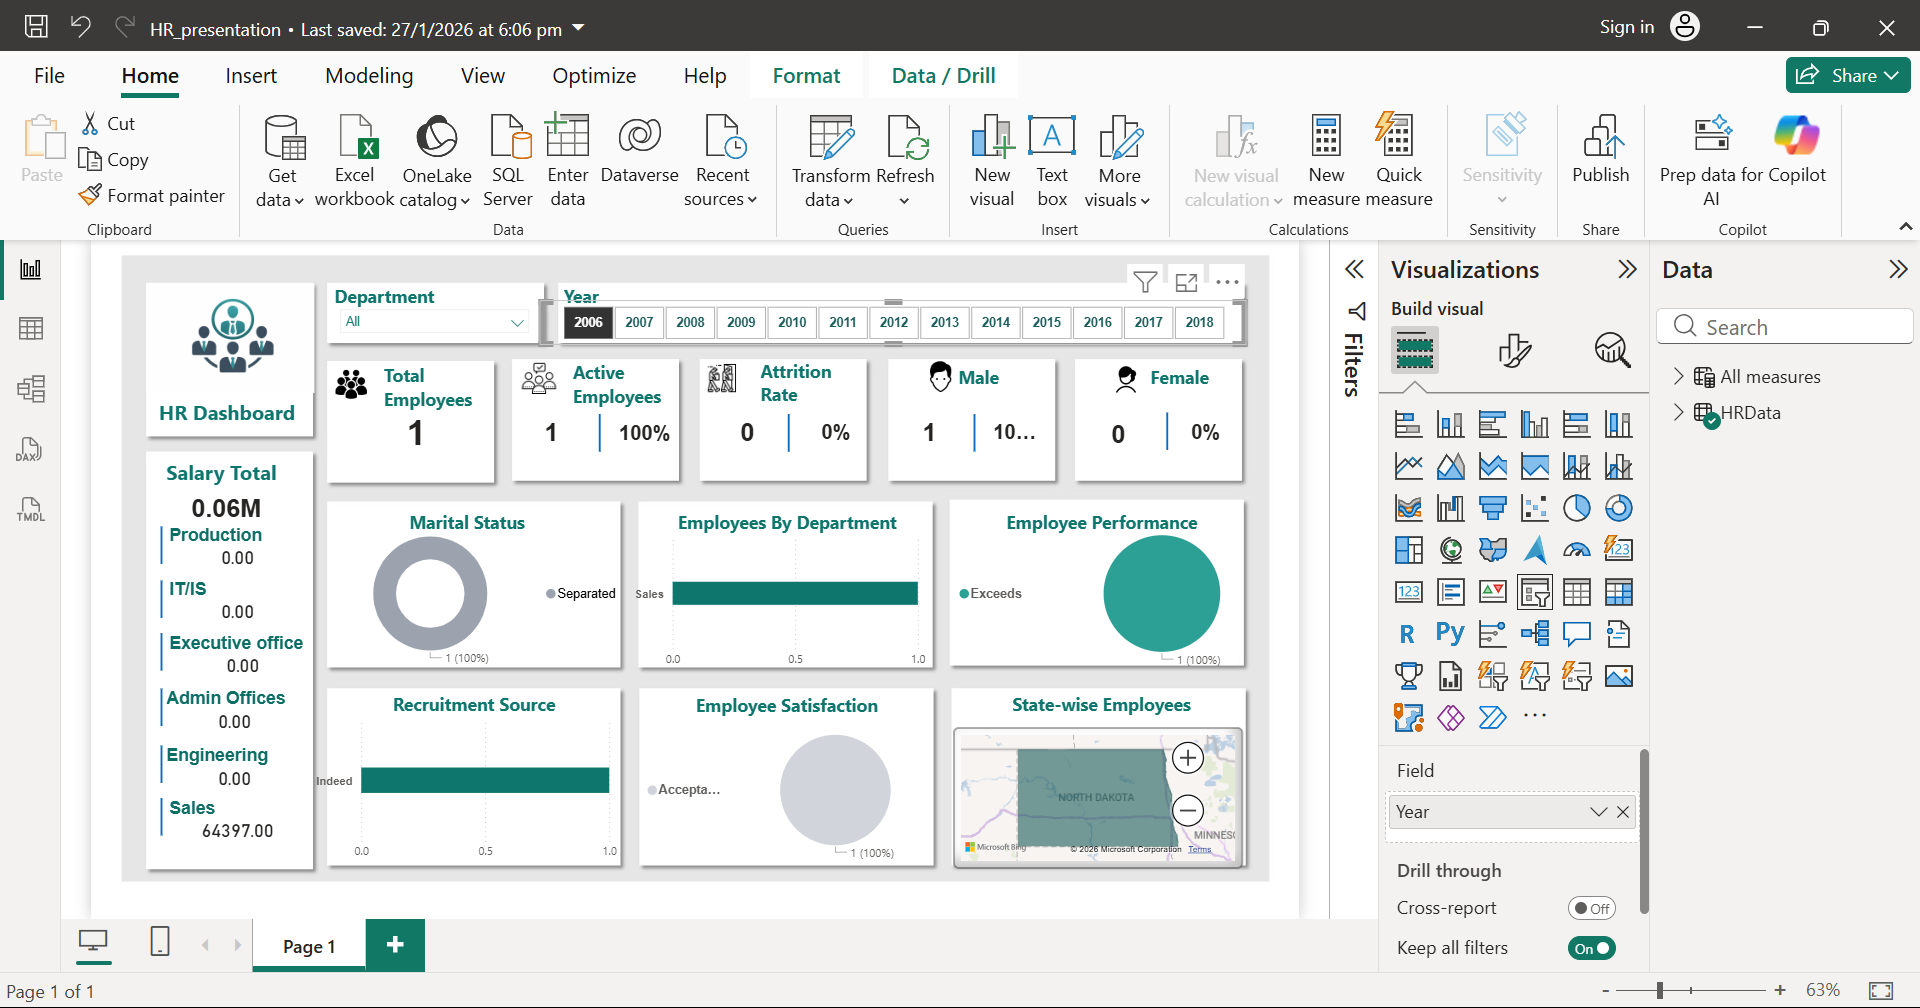

What the dashboard file says about the page in this screenshot:
{"tool":"powerbi","page":{"name":"Page 1","canvas":[1280,720],"ordinal":0},"visuals":[{"type":"textbox","box":[66.8,162.2,157.5,42.9],"z":0},{"type":"textbox","box":[704.6,120.9,112.9,62],"z":1000},{"type":"textbox","box":[505.8,122.5,112.9,77.9],"z":2000},{"type":"textbox","box":[305.4,125.7,117.7,76.3],"z":3000},{"type":"textbox","box":[253.2,41.6,156.9,43.5],"z":4000},{"type":"textbox","box":[74.8,225.9,149.5,55.7],"z":5000},{"type":"textbox","box":[496.3,41.4,157.5,44.5],"z":6000},{"type":"textbox","box":[914.3,127.1,64.3,42.9],"z":7000},{"type":"textbox","box":[1117.5,127.5,83.8,42.5],"z":8000},{"type":"textbox","box":[314.9,474,189.3,42.9],"z":9000},{"type":"textbox","box":[965.5,281.5,222.7,42.9],"z":10000},{"type":"textbox","box":[617.2,281.5,249.7,44.5],"z":11000},{"type":"textbox","box":[332.4,281.5,155.9,42.9],"z":12000},{"type":"textbox","box":[971.9,474,208.4,42.9],"z":13000},{"type":"textbox","box":[636.2,475.6,213.1,42.9],"z":14000},{"type":"image","box":[63.6,46.1,173.4,116.1],"z":15000},{"type":"image","box":[259.3,133.6,33.4,38.2],"z":16000},{"type":"image","box":[454.9,127.2,41.4,39.8],"z":17000},{"type":"image","box":[641,130.4,55.7,31.8],"z":18000},{"type":"image","box":[1076.2,130,41.2,33.8],"z":19000},{"type":"image","box":[878.8,127.5,46.2,35],"z":20000},{"type":"slicer","fields":{"Values":["HRData.Department"]},"box":[253.8,63.8,220,48.8],"z":21000},{"type":"card","fields":{"Values":["All measures.Head count"]},"box":[292.7,175,103.4,55.7],"z":22000},{"type":"card","fields":{"Values":["All measures.Active"]},"box":[448.8,170,78.8,67.5],"z":23000},{"type":"card","fields":{"Values":["All measures.Active %"]},"box":[535,171.2,105,67.5],"z":24000},{"type":"shape","box":[516.2,185,45,40],"z":25000},{"type":"card","fields":{"Values":["All measures.Terminated"]},"box":[652.5,172.5,87.5,63.8],"z":26000},{"type":"card","fields":{"Values":["All measures.Terminated %"]},"box":[750.8,173.4,77.9,60.4],"z":27000},{"type":"shape","box":[717.5,183.8,45,40],"z":28000},{"type":"card","fields":{"Values":["All measures.Male"]},"box":[850,175,78.8,56.2],"z":29000},{"type":"card","fields":{"Values":["All measures.Female"]},"box":[1050,173.8,78.8,63.8],"z":30000},{"type":"card","fields":{"Values":["All measures.Male %"]},"box":[949.6,170.2,58.9,68.4],"z":31000},{"type":"card","fields":{"Values":["All measures.Female %"]},"box":[1142.1,168.6,79.5,70],"z":32000},{"type":"shape","box":[1118.2,182.9,46.1,39.8],"z":33000},{"type":"shape","box":[914.6,184.5,44.5,39.8],"z":34000},{"type":"donutChart","fields":{"Category":["HRData.MaritalStatus"],"Y":["All measures.Head count"]},"box":[231.7,288.3,338.3,173.3],"z":35000},{"type":"barChart","fields":{"Category":["HRData.Department"],"Y":["All measures.Head count"]},"box":[570,303.3,320,158.3],"z":36000},{"type":"pieChart","fields":{"Category":["HRData.PerformanceScore"],"Y":["All measures.Head count"]},"box":[915,288.3,365,173.3],"z":37000},{"type":"barChart","fields":{"Category":["HRData.RecruitmentSource"],"Y":["All measures.Head count"]},"box":[231.7,496.7,330,170],"z":38000},{"type":"pieChart","fields":{"Category":["HRData.emp satisfaction"],"Y":["All measures.Head count"]},"box":[583.3,496.7,318.3,173.3],"z":39000},{"type":"filledMap","fields":{"Category":["HRData.State"]},"box":[914.6,516.9,307,149.5],"z":40000},{"type":"card","fields":{"Values":["All measures.Total Salary"]},"box":[87.5,264,111.3,39.8],"z":41000},{"type":"slicer","fields":{"Values":["HRData.Year"]},"box":[475,63.3,750,48.3],"z":42000},{"type":"card","title":"Production","fields":{"Values":["All measures.Salary_production"]},"box":[77.9,302.2,154.3,46.1],"z":43000},{"type":"card","title":"IT/IS","fields":{"Values":["All measures.Salary_IT_IS"]},"box":[77.9,359.5,154.3,46.1],"z":44000},{"type":"card","title":"Executive office","fields":{"Values":["All measures.Salary_executive"]},"box":[77.9,416.7,165.4,46.1],"z":45000},{"type":"card","title":"Admin Offices","fields":{"Values":["All measures.Salary_Admin_off"]},"box":[74.8,475.6,154.3,46.1],"z":46000},{"type":"card","title":"Engineering","fields":{"Values":["All measures.Salary_Engineering"]},"box":[74.8,536,154.3,46.1],"z":47000},{"type":"card","title":"Sales","fields":{"Values":["All measures.Salary_sales"]},"box":[77.9,591.7,154.3,46.1],"z":48000},{"type":"shape","box":[52.5,303.8,44.5,39.8],"z":49000},{"type":"shape","box":[52.5,475.6,44.5,39.8],"z":50000},{"type":"shape","box":[52.5,361.1,44.5,39.8],"z":51000},{"type":"shape","box":[52.5,416.7,44.5,39.8],"z":52000},{"type":"shape","box":[52.5,536,44.5,39.8],"z":53000},{"type":"shape","box":[52.5,591.7,44.5,39.8],"z":54000}]}

Visuals, with their boxes on the page's 1280x720 design canvas (x1, y1, x2, y2). These are canvas units, not pixel positions in the 1920x1008 screenshot, which may show the page scaled, cropped or inside an application window:
textbox: (left=67, top=162, right=224, bottom=205)
textbox: (left=705, top=121, right=818, bottom=183)
textbox: (left=506, top=122, right=619, bottom=200)
textbox: (left=305, top=126, right=423, bottom=202)
textbox: (left=253, top=42, right=410, bottom=85)
textbox: (left=75, top=226, right=224, bottom=282)
textbox: (left=496, top=41, right=654, bottom=86)
textbox: (left=914, top=127, right=979, bottom=170)
textbox: (left=1118, top=128, right=1201, bottom=170)
textbox: (left=315, top=474, right=504, bottom=517)
textbox: (left=966, top=282, right=1188, bottom=324)
textbox: (left=617, top=282, right=867, bottom=326)
textbox: (left=332, top=282, right=488, bottom=324)
textbox: (left=972, top=474, right=1180, bottom=517)
textbox: (left=636, top=476, right=849, bottom=518)
image: (left=64, top=46, right=237, bottom=162)
image: (left=259, top=134, right=293, bottom=172)
image: (left=455, top=127, right=496, bottom=167)
image: (left=641, top=130, right=697, bottom=162)
image: (left=1076, top=130, right=1117, bottom=164)
image: (left=879, top=128, right=925, bottom=162)
slicer - HRData.Department: (left=254, top=64, right=474, bottom=113)
card - All measures.Head count: (left=293, top=175, right=396, bottom=231)
card - All measures.Active: (left=449, top=170, right=528, bottom=238)
card - All measures.Active %: (left=535, top=171, right=640, bottom=239)
shape: (left=516, top=185, right=561, bottom=225)
card - All measures.Terminated: (left=652, top=172, right=740, bottom=236)
card - All measures.Terminated %: (left=751, top=173, right=829, bottom=234)
shape: (left=718, top=184, right=762, bottom=224)
card - All measures.Male: (left=850, top=175, right=929, bottom=231)
card - All measures.Female: (left=1050, top=174, right=1129, bottom=238)
card - All measures.Male %: (left=950, top=170, right=1008, bottom=239)
card - All measures.Female %: (left=1142, top=169, right=1222, bottom=239)
shape: (left=1118, top=183, right=1164, bottom=223)
shape: (left=915, top=184, right=959, bottom=224)
donutChart - HRData.MaritalStatus x All measures.Head count: (left=232, top=288, right=570, bottom=462)
barChart - HRData.Department x All measures.Head count: (left=570, top=303, right=890, bottom=462)
pieChart - HRData.PerformanceScore x All measures.Head count: (left=915, top=288, right=1280, bottom=462)
barChart - HRData.RecruitmentSource x All measures.Head count: (left=232, top=497, right=562, bottom=667)
pieChart - HRData.emp satisfaction x All measures.Head count: (left=583, top=497, right=902, bottom=670)
filledMap - HRData.State: (left=915, top=517, right=1222, bottom=666)
card - All measures.Total Salary: (left=88, top=264, right=199, bottom=304)
slicer - HRData.Year: (left=475, top=63, right=1225, bottom=112)
"Production" card: (left=78, top=302, right=232, bottom=348)
"IT/IS" card: (left=78, top=360, right=232, bottom=406)
"Executive office" card: (left=78, top=417, right=243, bottom=463)
"Admin Offices" card: (left=75, top=476, right=229, bottom=522)
"Engineering" card: (left=75, top=536, right=229, bottom=582)
"Sales" card: (left=78, top=592, right=232, bottom=638)
shape: (left=52, top=304, right=97, bottom=344)
shape: (left=52, top=476, right=97, bottom=515)
shape: (left=52, top=361, right=97, bottom=401)
shape: (left=52, top=417, right=97, bottom=456)
shape: (left=52, top=536, right=97, bottom=576)
shape: (left=52, top=592, right=97, bottom=632)
